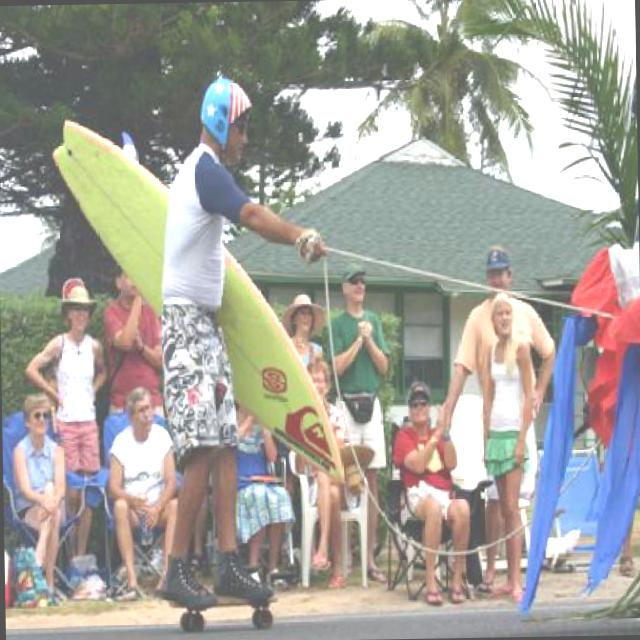Person: (152, 73, 332, 608), (440, 243, 559, 506), (23, 274, 112, 606), (324, 257, 394, 578), (388, 380, 472, 608), (477, 290, 536, 604), (292, 356, 361, 592), (106, 386, 178, 608), (12, 392, 66, 596), (103, 265, 169, 426), (284, 293, 324, 368)
